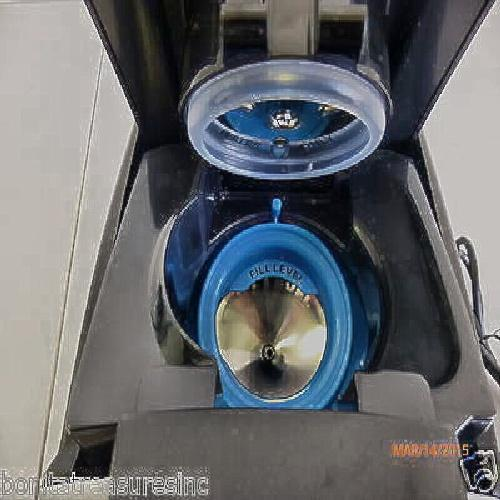coffee_maker: (90, 16, 466, 463)
